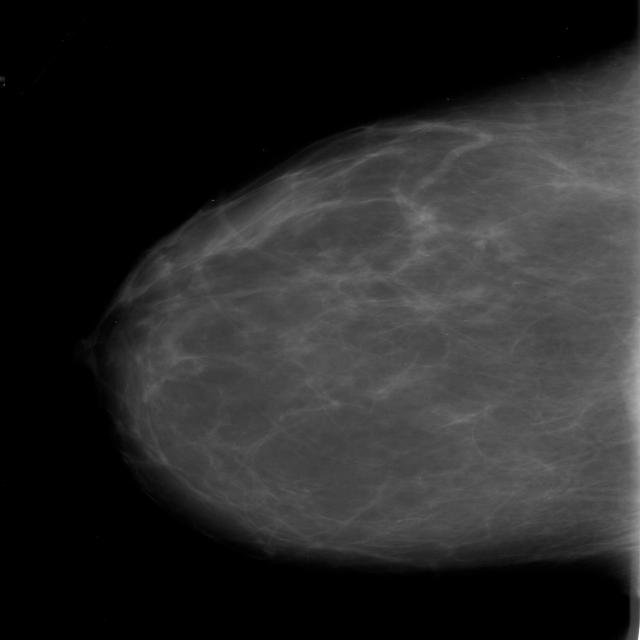normal: (100, 35, 640, 562)
